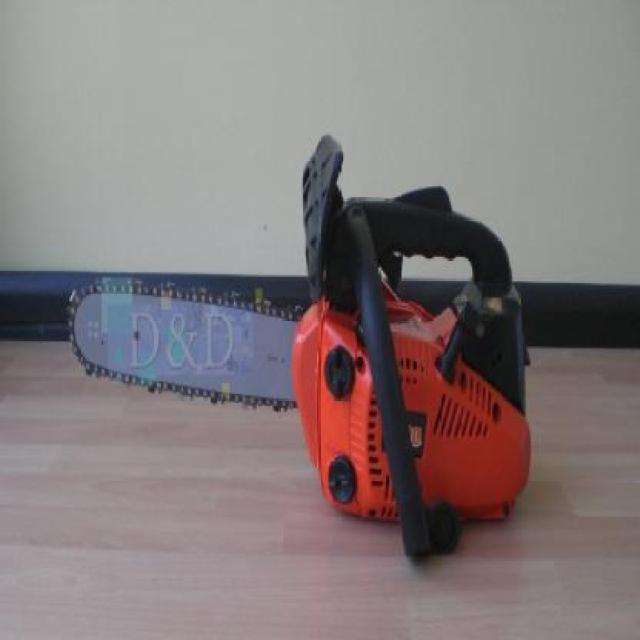Chainsaw: (66, 134, 534, 563)
